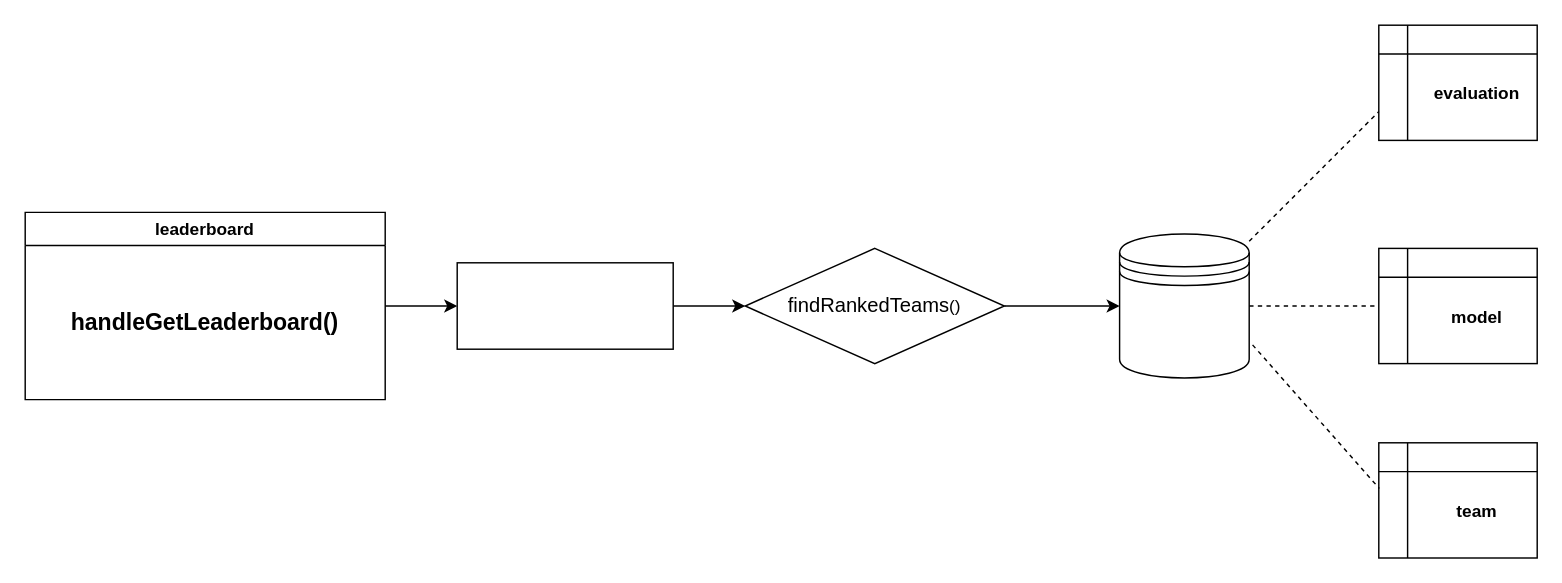
Some shapes in this 1562 by 583 pixel diagram are drawn without their labels. The box of each missing label's shape, as (x1, y1, x2, y2) in pixels:
DB: (1118, 233, 1249, 378)
getLeaderboard(): (456, 261, 673, 349)
